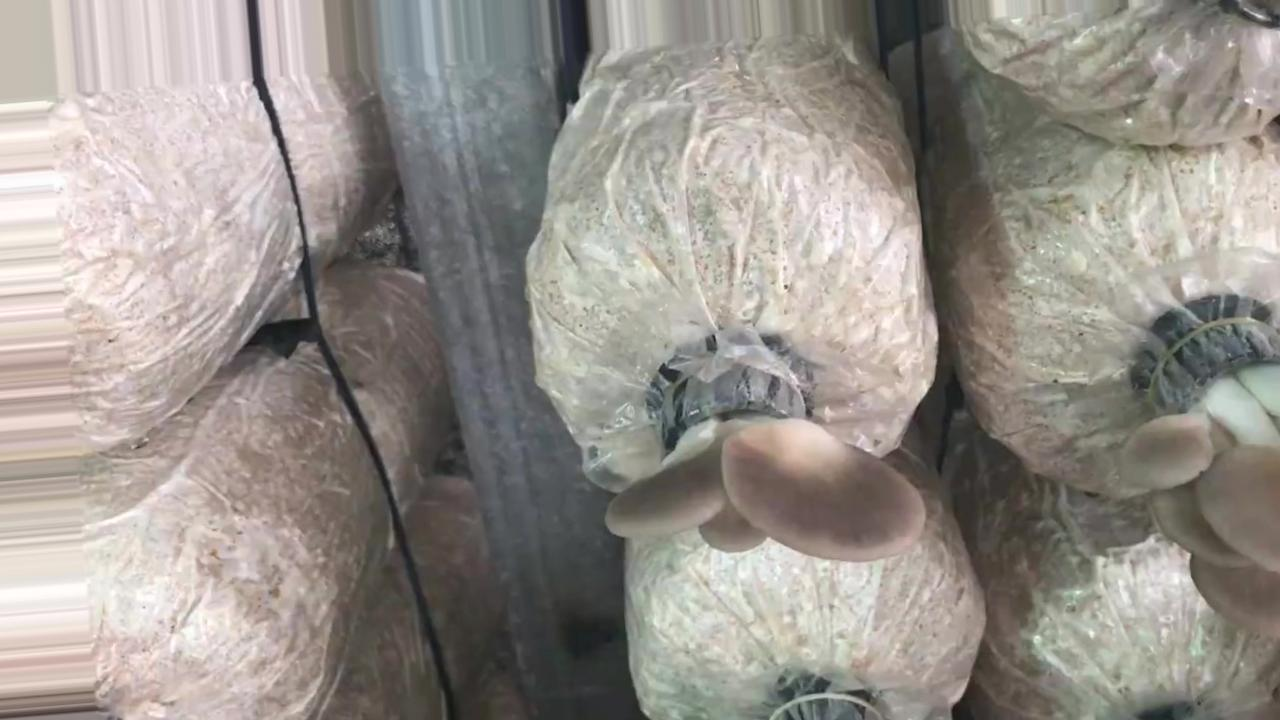nam: (602, 357, 928, 568), (1130, 309, 1280, 636)
